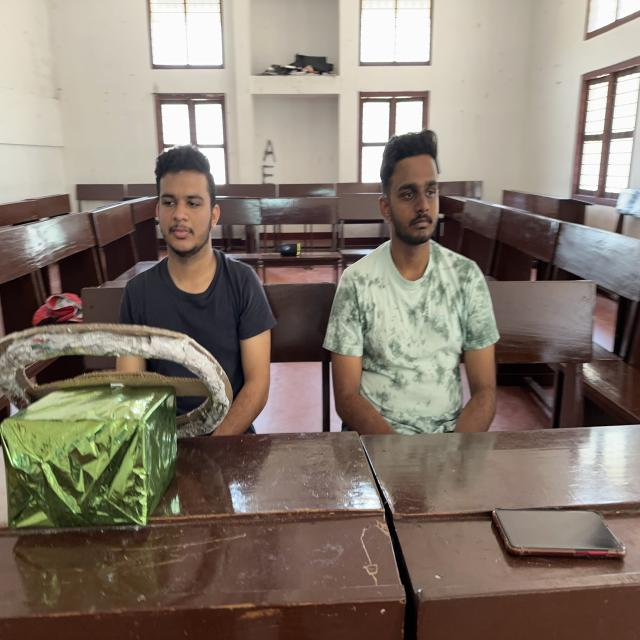Helmet: (327, 251, 501, 474), (114, 254, 278, 457)
